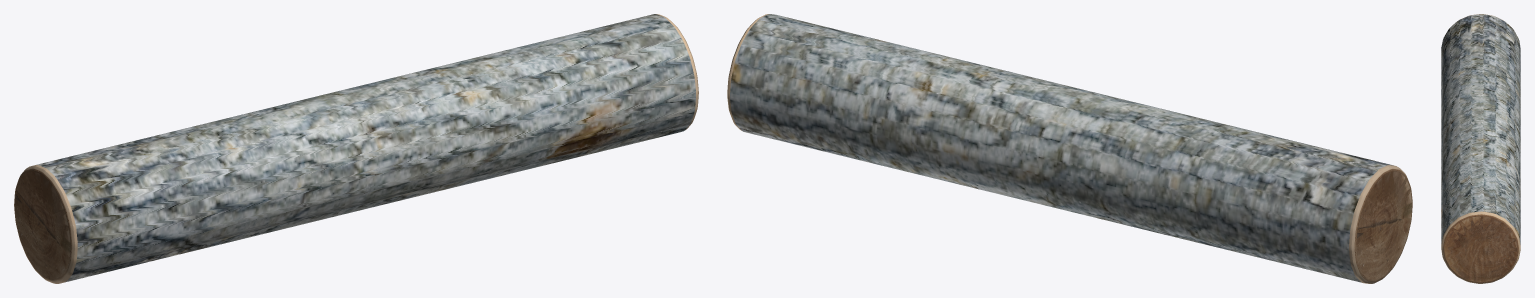
The model's file is Long Log no cover.fbx.
3 renders of one model, left to right at view 1: azimuth 30°, elevation 25°; view 2: azimuth 150°, elevation 25°; view 3: azimuth 270°, elevation 25°, orthographic. The views are drawn at different scales.
Parts seen in each view (by area): view 1: Log; view 2: Log; view 3: Log.
Boxes of the visible parts, x1=… form: Log: x1=14, y1=14, x2=698, y2=283; Log: x1=727, y1=14, x2=1412, y2=283; Log: x1=1441, y1=14, x2=1520, y2=283.
Size of the model in its own units: 11.83 by 1.99 by 1.99.
1 material, 1 textured.
